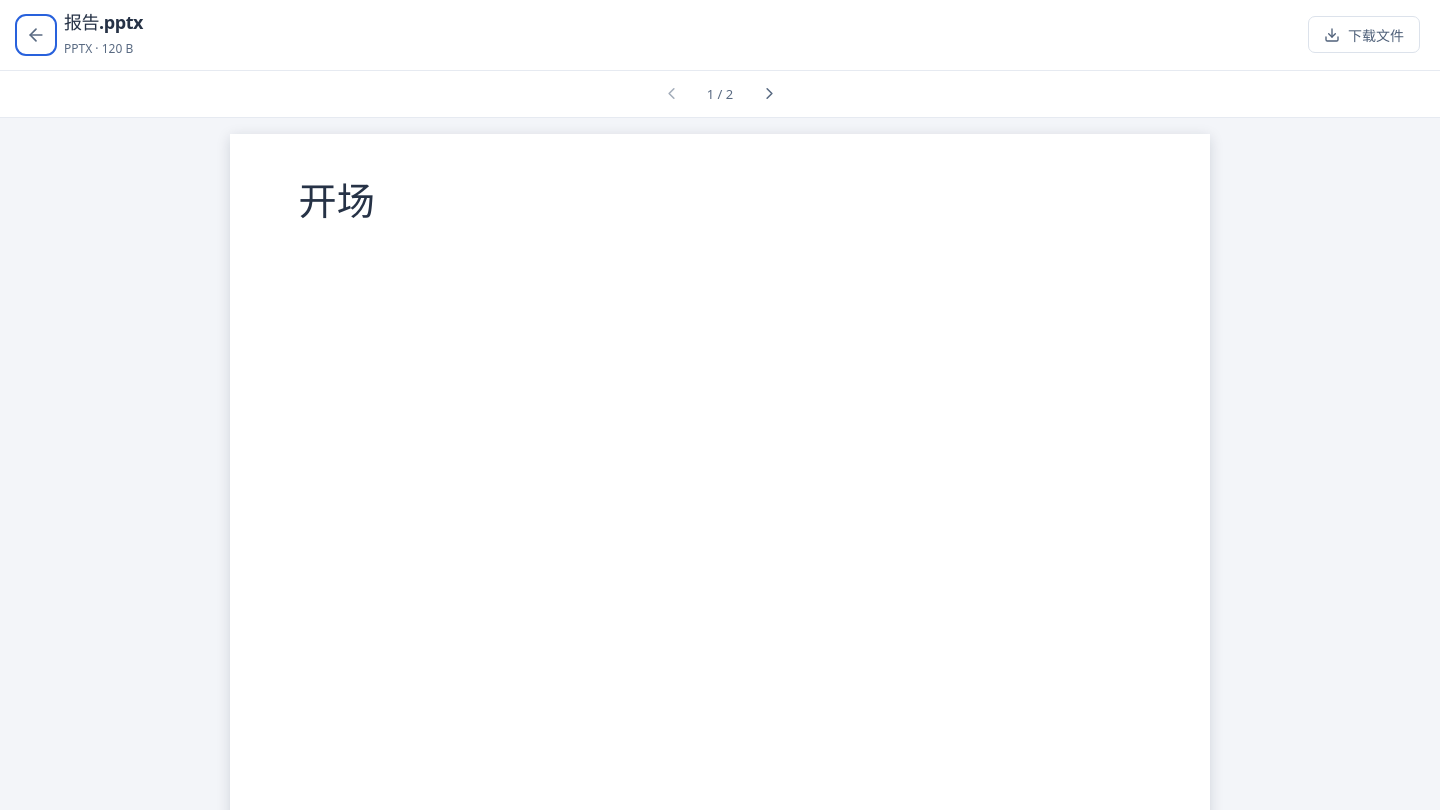
uses the PowerPoint relationship ID and keeps the original slide order
Expected: the text "开场" is shown, top-left (299, 178), bottom-right (375, 226)
What coordinates should you click on to do the following:
click the button named "下一页"
I would click on:
 (769, 94)
Its box is top-left (753, 78), bottom-right (785, 110).
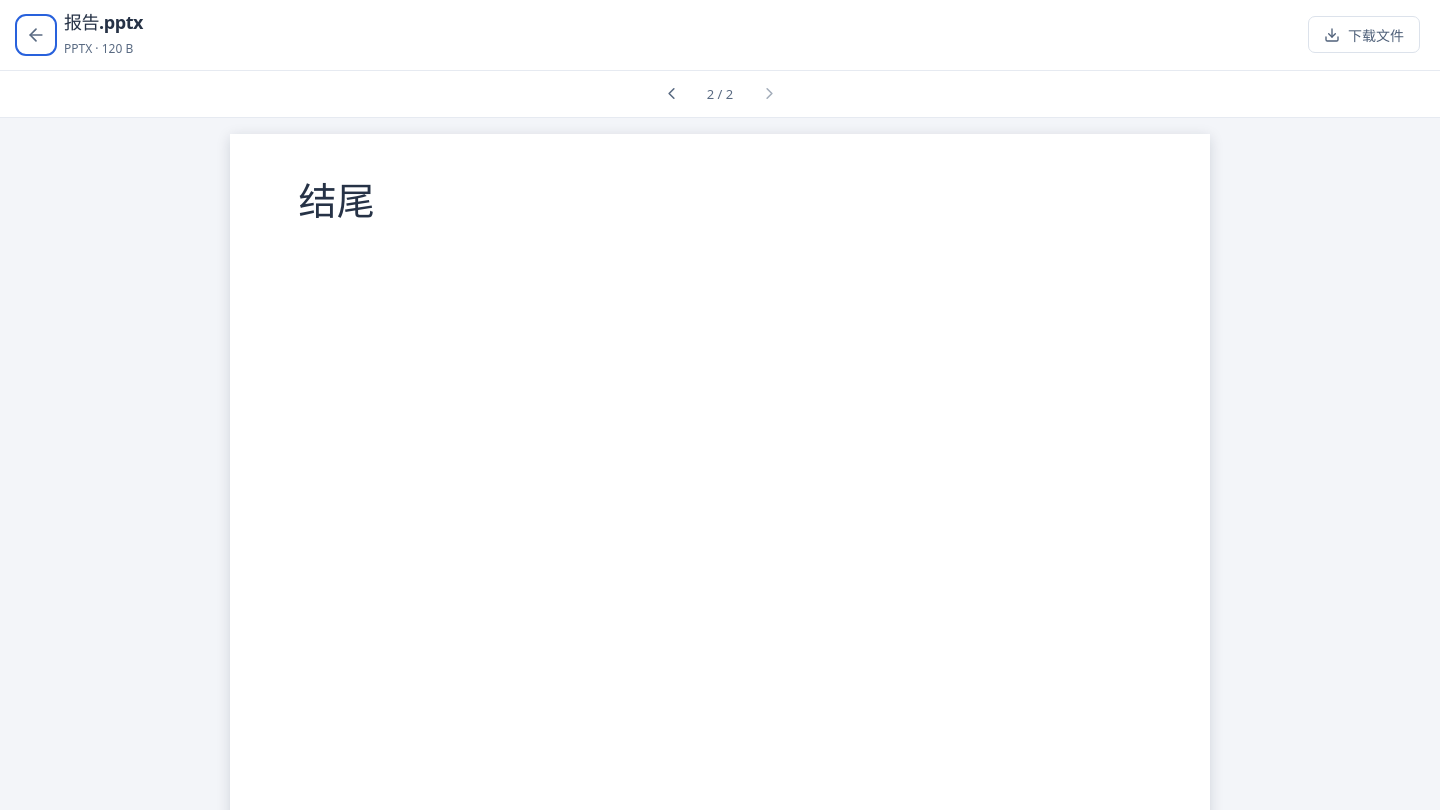
Expected: the text "结尾" is shown, top-left (299, 178), bottom-right (375, 226)
